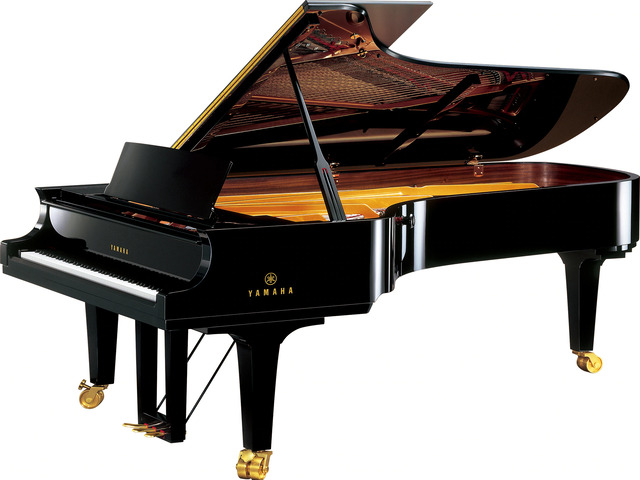Piano: (1, 4, 636, 475)
